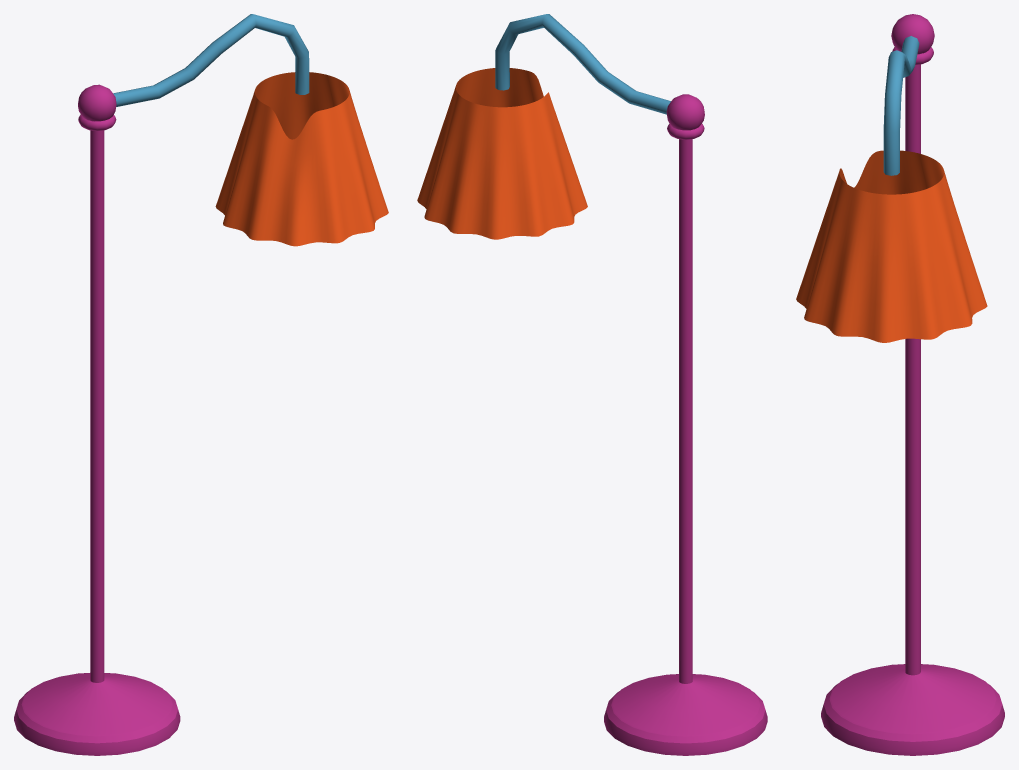
File: lamp1.fbx
3 renders of one model, left to right at view 1: azimuth 30°, elevation 25°; view 2: azimuth 150°, elevation 25°; view 3: azimuth 270°, elevation 25°, orthographic. The views are drawn at different scales.
Visible parts, largest first — view 1: Circle.002, Circle, Vert, Roundcube; view 2: Circle.002, Circle, Vert, Roundcube; view 3: Circle.002, Circle, Vert, Roundcube.
Part boxes in pixels (x1,y1,x2,y2): Circle.002: [215, 72, 388, 246]; Circle: [14, 130, 180, 755]; Vert: [113, 14, 309, 106]; Roundcube: [78, 84, 116, 121]; Circle.002: [417, 68, 587, 239]; Circle: [604, 139, 767, 755]; Vert: [495, 14, 670, 114]; Roundcube: [666, 94, 704, 130]; Circle.002: [796, 150, 987, 342]; Circle: [821, 64, 1004, 755]; Vert: [883, 36, 919, 175]; Roundcube: [891, 14, 934, 54].
Size of the model in its own units: 302 by 570 by 144.
